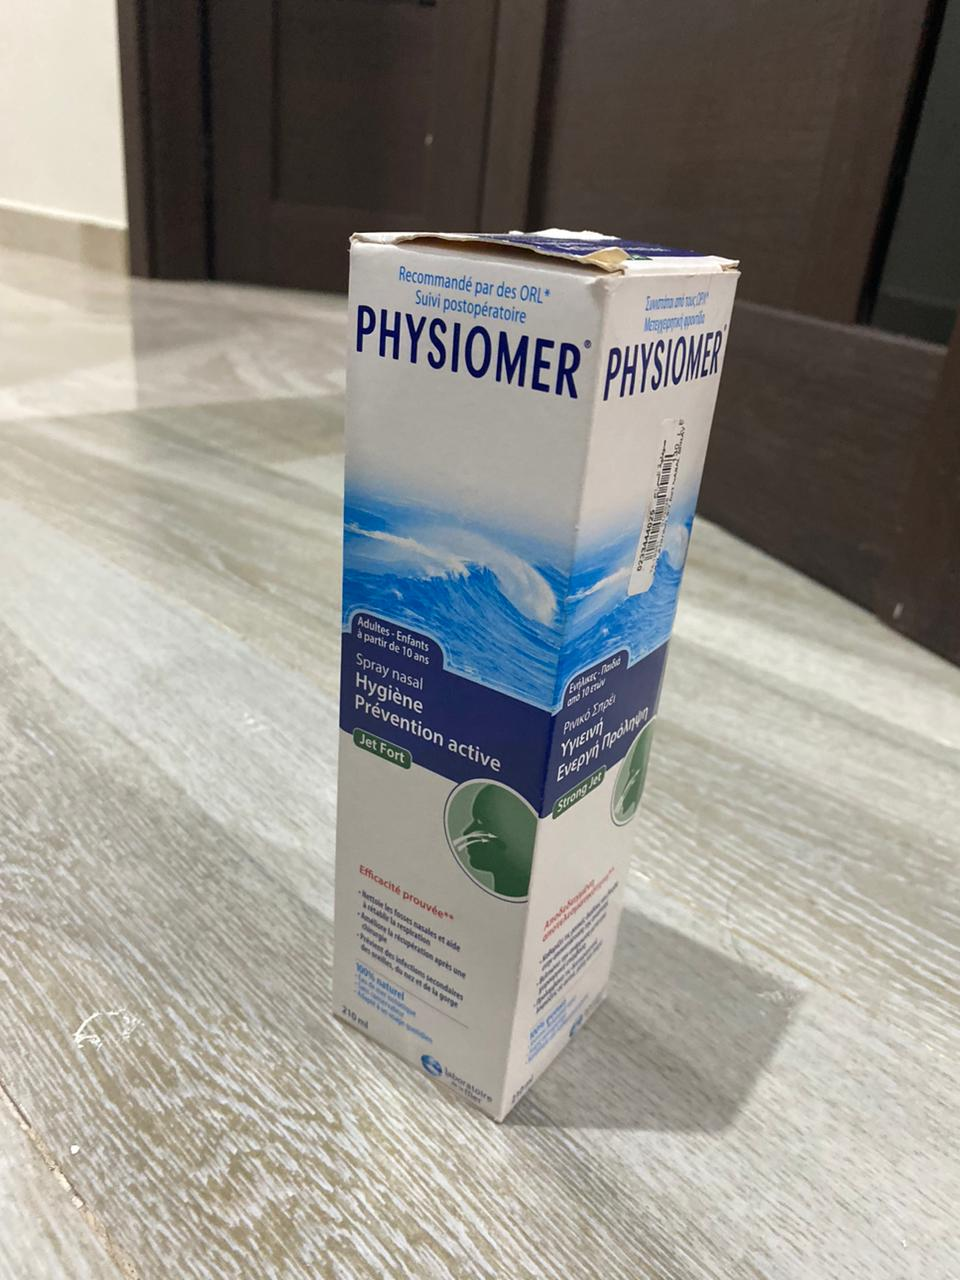Physiomer: (319, 219, 751, 1141)
